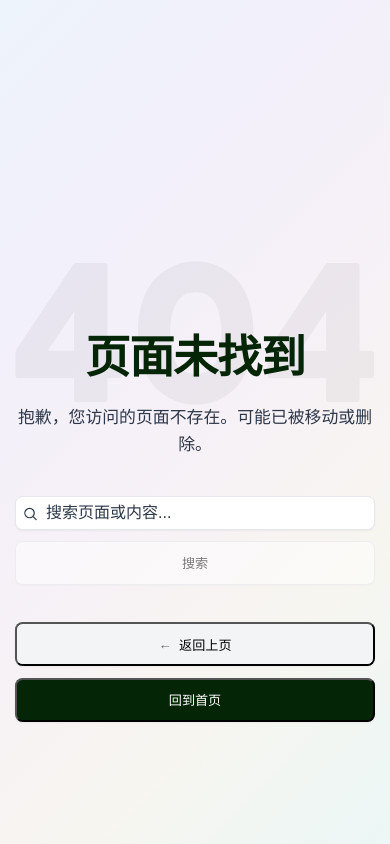
it: NotFoundPage组件 › 输入搜索内容后搜索按钮应该启用
Type "测试搜索" into the field with placeholder "搜索页面或内容...". click: (195, 513)
box: [15,496,375,530]
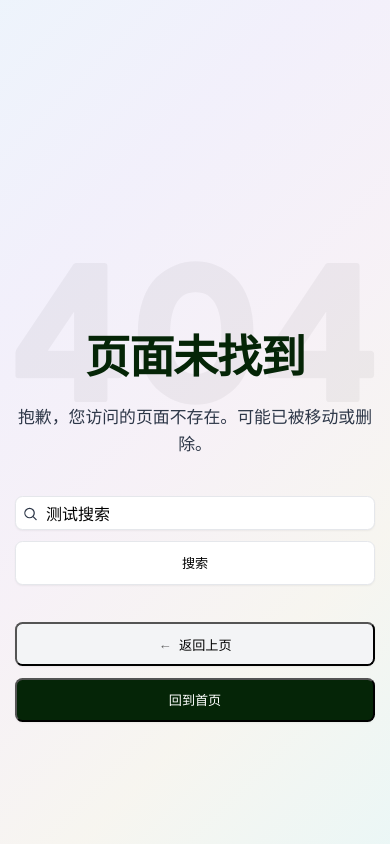
Result: the button "搜索" is enabled at [15,541,375,585]
